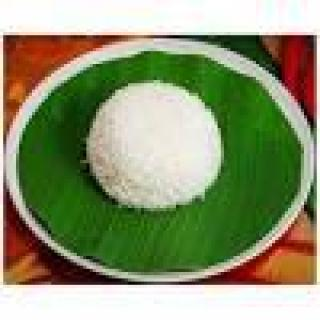Nasi: (81, 78, 219, 206)
